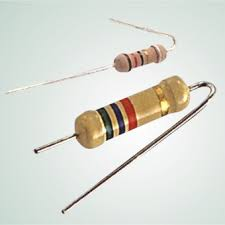resistor: (66, 76, 190, 166), (101, 33, 188, 76)
